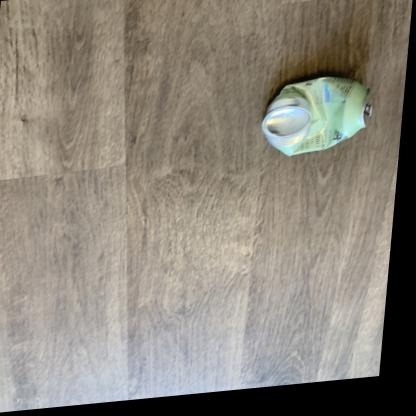trash: (261, 76, 369, 155)
